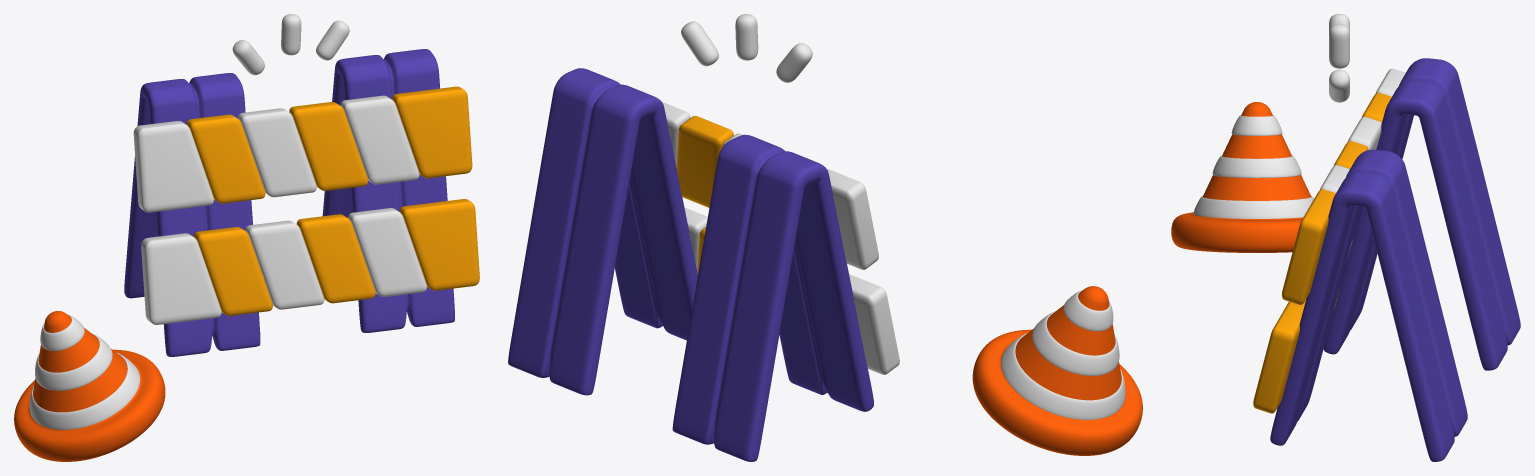
File: under-construction-animated-3d-icon-1071252168197.glb
3 renders of one model, left to right at view 1: azimuth 30°, elevation 25°; view 2: azimuth 150°, elevation 25°; view 3: azimuth 270°, elevation 25°, orthographic. The views are drawn at different scales.
Visible parts, largest first — view 1: Stand.002, Strip 2, Strip 2.001, Strip 1.001, Strip 1, Base.003, Strip, Three Strips.003; view 2: Stand.002, Base.003, Strip, Strip 2, Strip 2.001, Strip 1, Three Strips.003; view 3: Stand.002, Base.003, Strip, Strip 1, Strip 1.001, Strip 2, Three Strips.003.
Boxes of the visible parts, left/top/right/bottom form: Stand.002: left=124, top=49, right=454, bottom=356; Strip 2: left=133, top=95, right=419, bottom=212; Strip 2.001: left=141, top=208, right=426, bottom=324; Strip 1.001: left=194, top=199, right=479, bottom=315; Strip 1: left=186, top=86, right=472, bottom=203; Base.003: left=14, top=311, right=165, bottom=461; Strip: left=29, top=314, right=140, bottom=429; Three Strips.003: left=232, top=14, right=349, bottom=75; Stand.002: left=508, top=68, right=873, bottom=461; Base.003: left=972, top=286, right=1142, bottom=455; Strip: left=1001, top=290, right=1125, bottom=419; Strip 2: left=662, top=102, right=878, bottom=269; Strip 2.001: left=684, top=208, right=899, bottom=374; Strip 1: left=676, top=116, right=733, bottom=207; Three Strips.003: left=681, top=14, right=812, bottom=82; Stand.002: left=1270, top=58, right=1520, bottom=461; Base.003: left=1171, top=102, right=1311, bottom=252; Strip: left=1193, top=115, right=1313, bottom=218; Strip 1: left=1282, top=92, right=1391, bottom=304; Strip 1.001: left=1253, top=290, right=1339, bottom=413; Strip 2: left=1320, top=68, right=1405, bottom=192; Three Strips.003: left=1329, top=14, right=1349, bottom=102.
Size of the model in its own units: 2.37 by 1.64 by 1.39.
